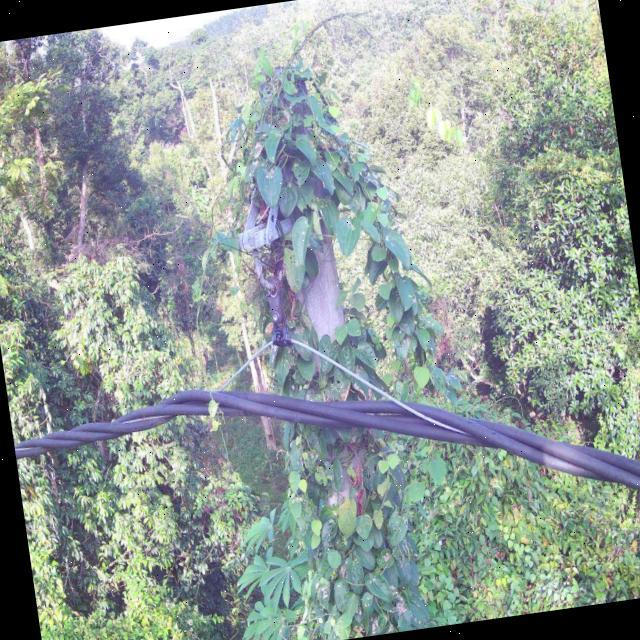critical vegetation: (177, 25, 485, 640)
